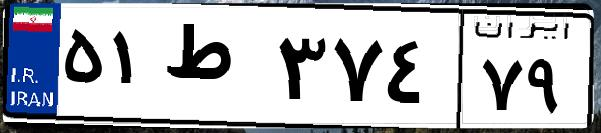1: (110, 28, 158, 98)
3: (270, 28, 330, 110)
4: (385, 28, 445, 110)
5: (57, 26, 110, 100)
7: (330, 28, 385, 110), (475, 38, 525, 113)
9: (525, 38, 570, 115)
ط: (158, 20, 270, 120)
